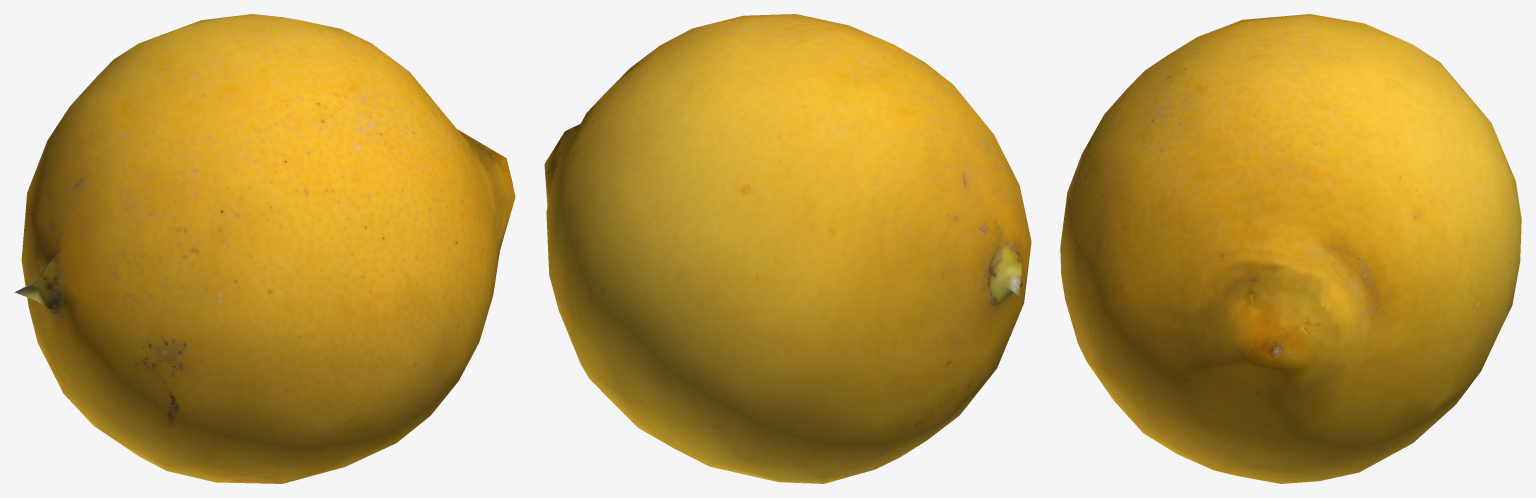
Rendered from 3DLemon001_LQ-1K-JPG.obj.
The picture shows the model from 3 angles, left to right: view 1: azimuth 30°, elevation 25°; view 2: azimuth 150°, elevation 25°; view 3: azimuth 270°, elevation 25°; orthographic projection.
Parts seen in each view (by area): view 1: 3DLemon001_LQ-1K-JPG; view 2: 3DLemon001_LQ-1K-JPG; view 3: 3DLemon001_LQ-1K-JPG.
Part boxes in pixels (x1=…): 3DLemon001_LQ-1K-JPG: x1=15, y1=14, x2=515, y2=483; 3DLemon001_LQ-1K-JPG: x1=544, y1=14, x2=1031, y2=483; 3DLemon001_LQ-1K-JPG: x1=1060, y1=14, x2=1521, y2=483.
Size of the model in its own units: 0.0987 by 0.0819 by 0.0817.
Materials: 1 (1 with a texture image).
